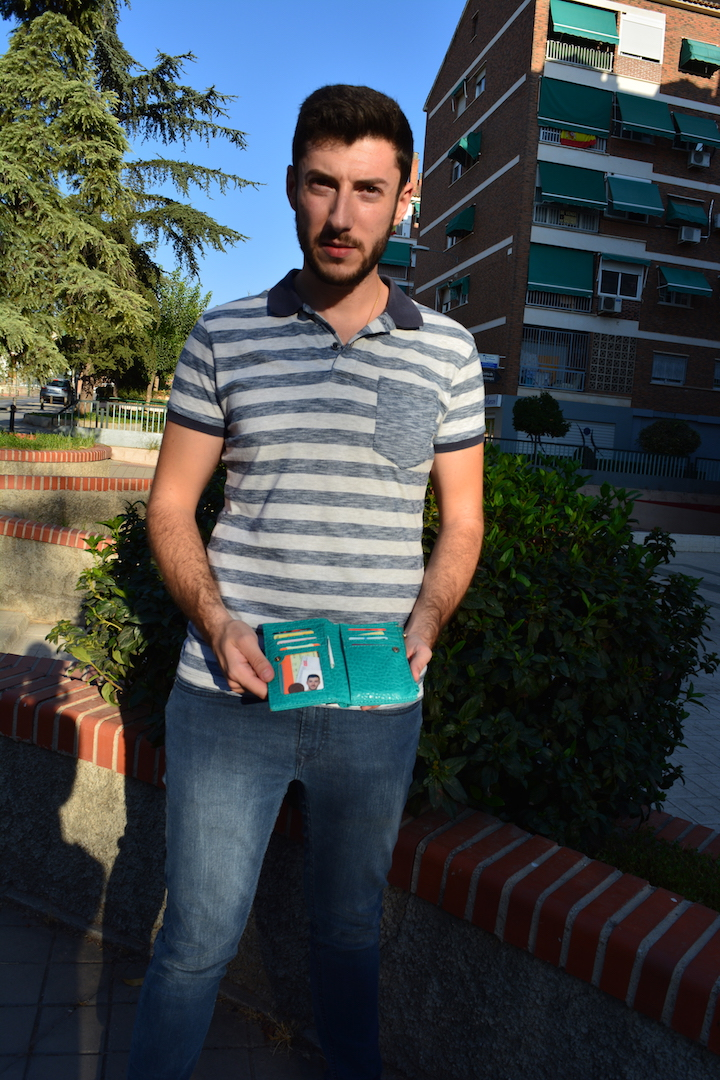monedero: (258, 614, 419, 711)
